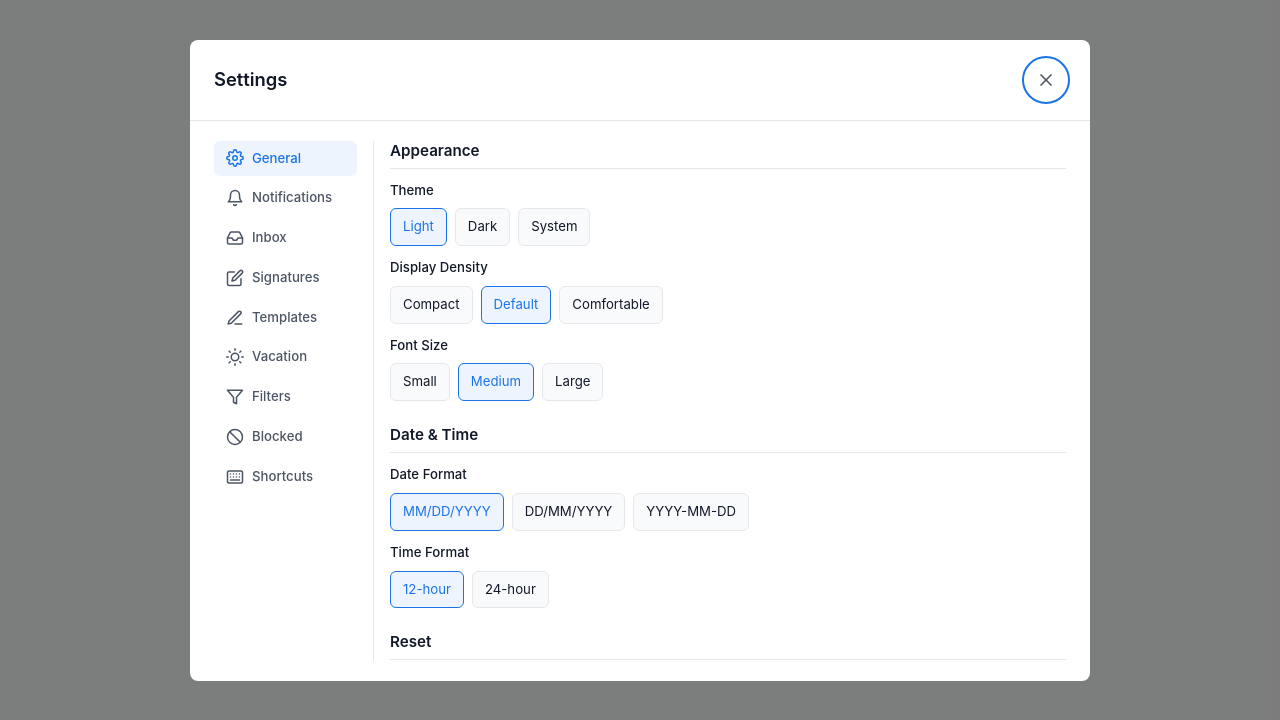
Test: SettingsModal - Tab navigation › switches to Signatures tab when clicked
Click the button "Signatures".
click(286, 278)  # box [214,260,357,296]
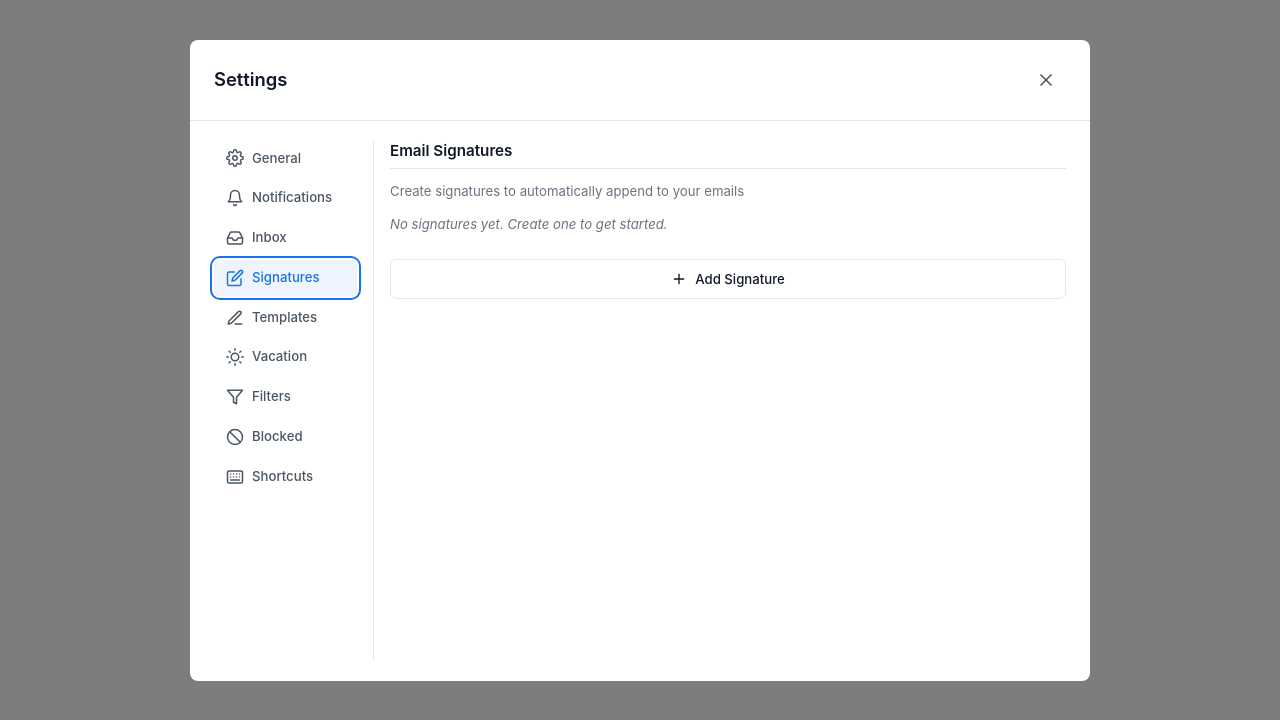
Check: the button "Add Signature" is shown, box [390,259,1066,299]
